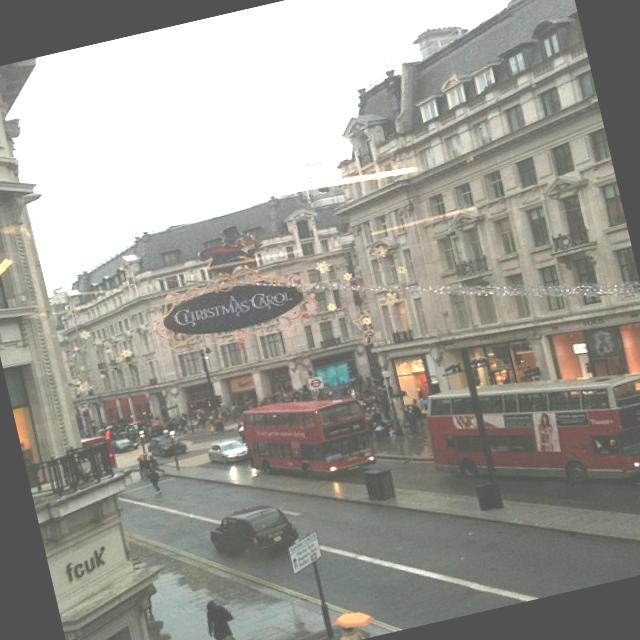Vehicle: (420, 342, 640, 518), (237, 380, 376, 490), (204, 497, 301, 564), (205, 436, 250, 467), (146, 432, 188, 461), (110, 435, 138, 454)
